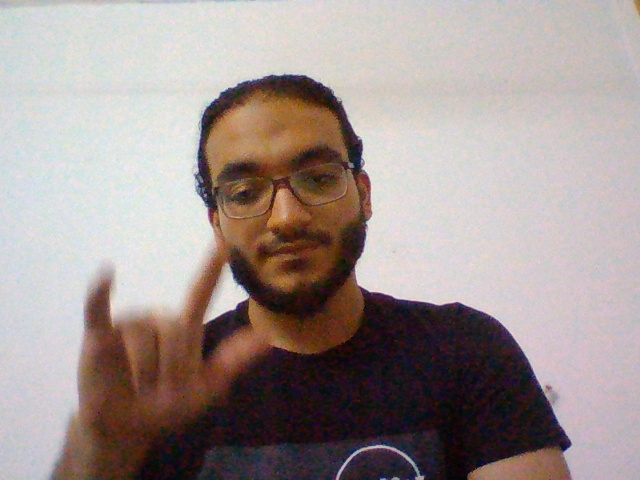I Love Yoy: (68, 239, 273, 433)
